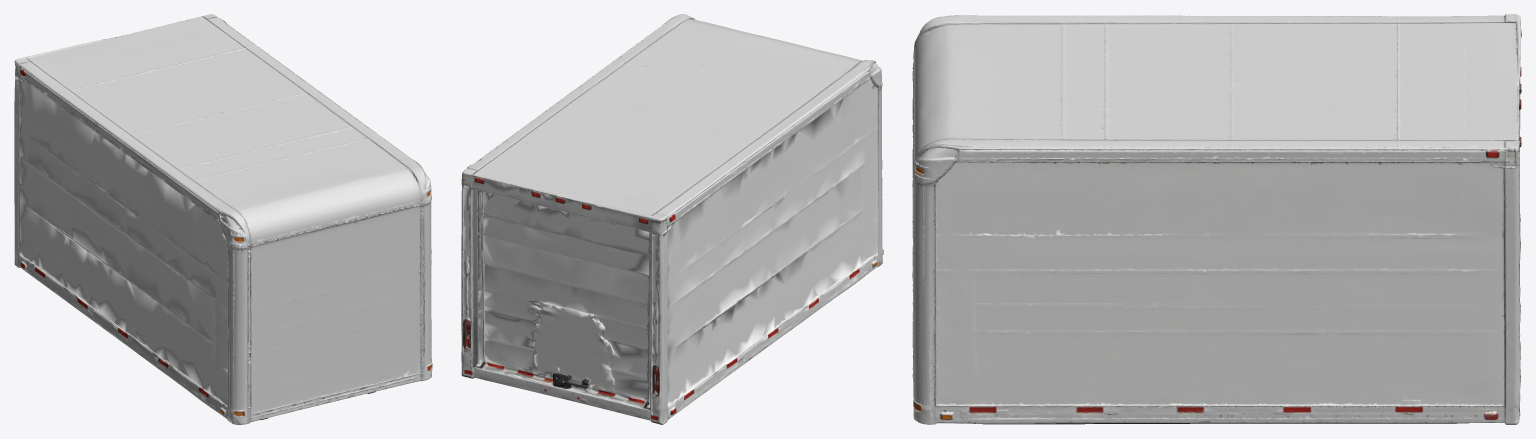
Rendered from isuzu-dry-van-body.glb.
The picture shows the model from 3 angles, left to right: view 1: azimuth 30°, elevation 25°; view 2: azimuth 150°, elevation 25°; view 3: azimuth 270°, elevation 25°; orthographic projection. The views are drawn at different scales.
Parts seen in each view (by area): view 1: tripo_node_db990500-cceb-4952-9d38-d7edeb5e710a; view 2: tripo_node_db990500-cceb-4952-9d38-d7edeb5e710a; view 3: tripo_node_db990500-cceb-4952-9d38-d7edeb5e710a.
Part boxes in pixels (x1,y1,x2,y2): tripo_node_db990500-cceb-4952-9d38-d7edeb5e710a: (14, 14, 432, 424); tripo_node_db990500-cceb-4952-9d38-d7edeb5e710a: (461, 14, 883, 424); tripo_node_db990500-cceb-4952-9d38-d7edeb5e710a: (912, 14, 1521, 424).
Size of the model in its own units: 0.5142 by 0.5348 by 0.9783.
1 material, 1 textured.
